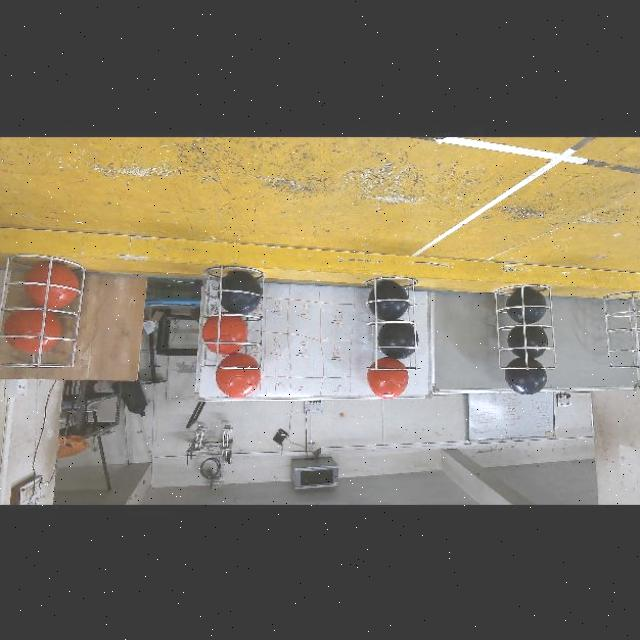P: (218, 271, 261, 314), (367, 281, 408, 321), (504, 357, 547, 395), (507, 286, 547, 323), (378, 322, 418, 359), (507, 326, 547, 358)
R: (24, 262, 80, 309), (6, 309, 63, 351), (215, 353, 261, 397), (202, 316, 248, 357), (367, 357, 408, 399)
S: (0, 254, 90, 376), (198, 266, 266, 372), (491, 282, 562, 372), (362, 270, 424, 372), (598, 300, 640, 376)
